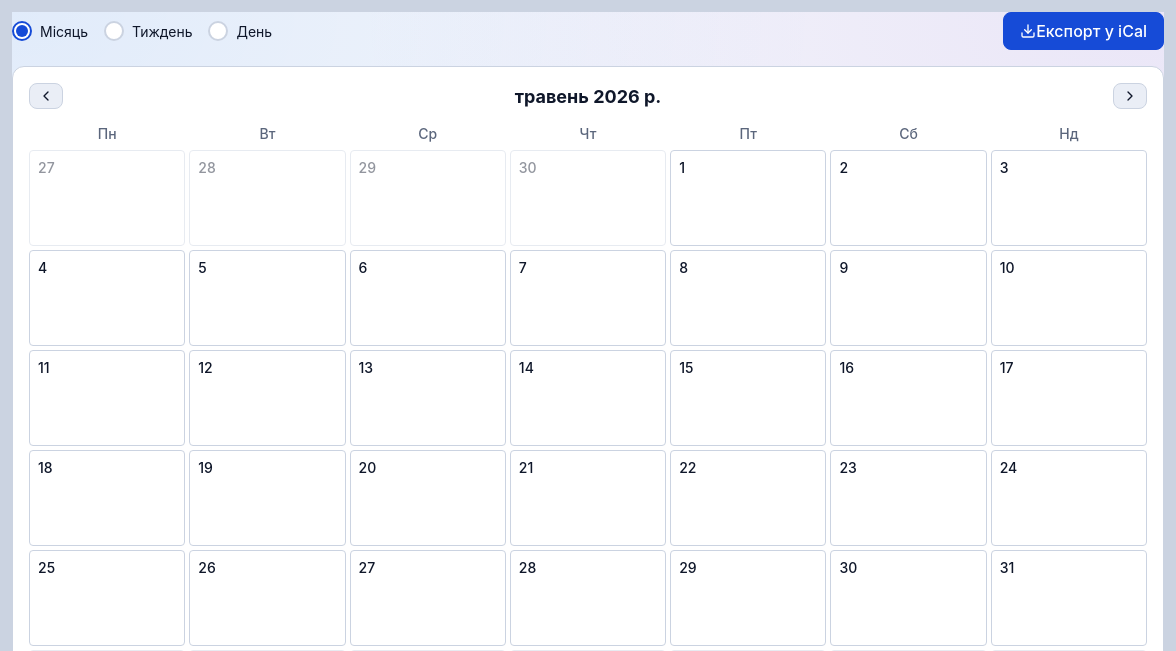
ScheduleView component › should switch to day view when a day cell is clicked in month view
This screenshot has width=1176, height=651.
Click the button "15". click: (748, 398)
box: x1=670 y1=350 x2=826 y2=446
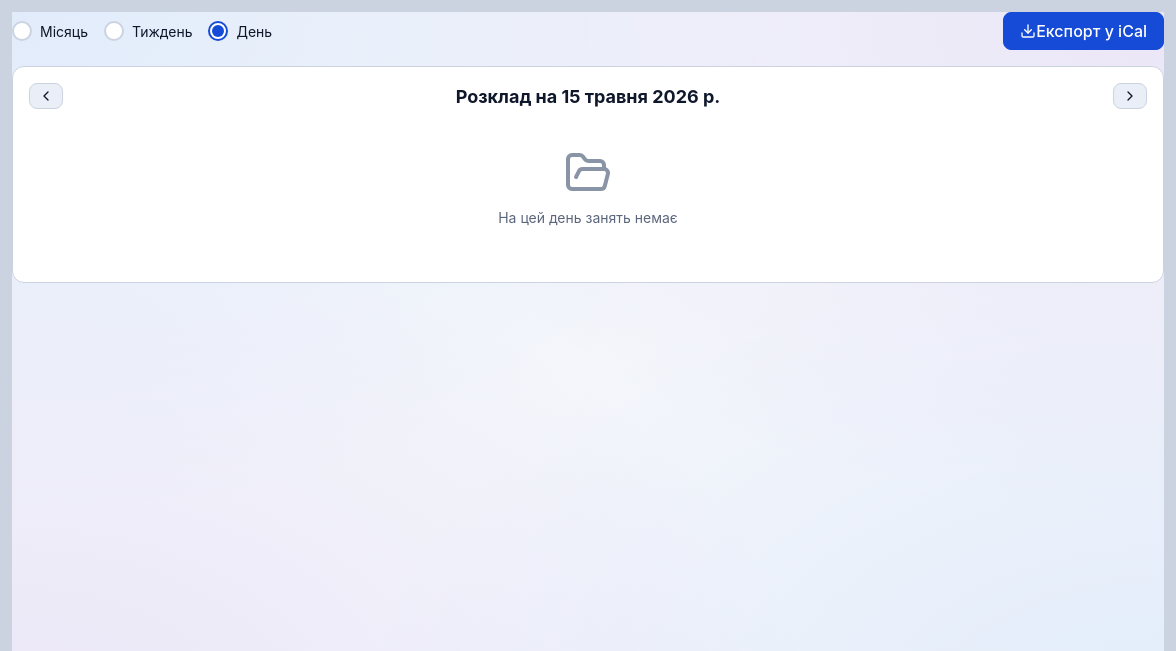
Expected: the button named "Попередній день" is shown, x1=29 y1=83 x2=63 y2=109
Expected: the radio button labelled "День" is checked, x1=208 y1=21 x2=228 y2=41
